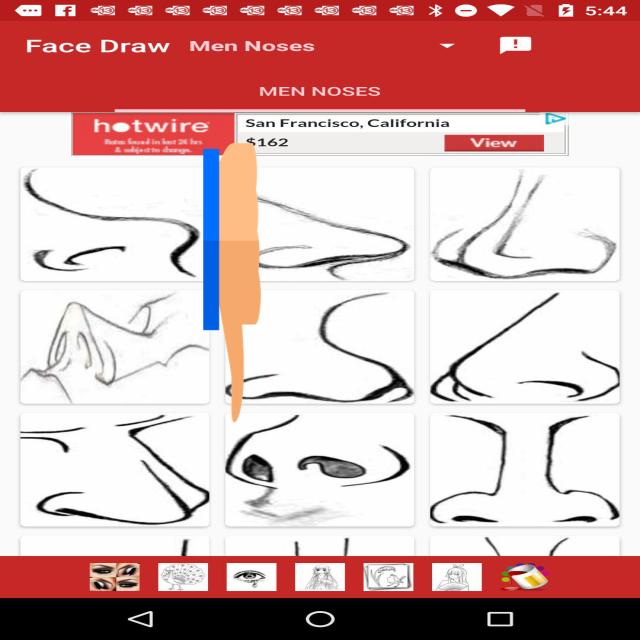obstruction: (203, 136, 261, 430)
